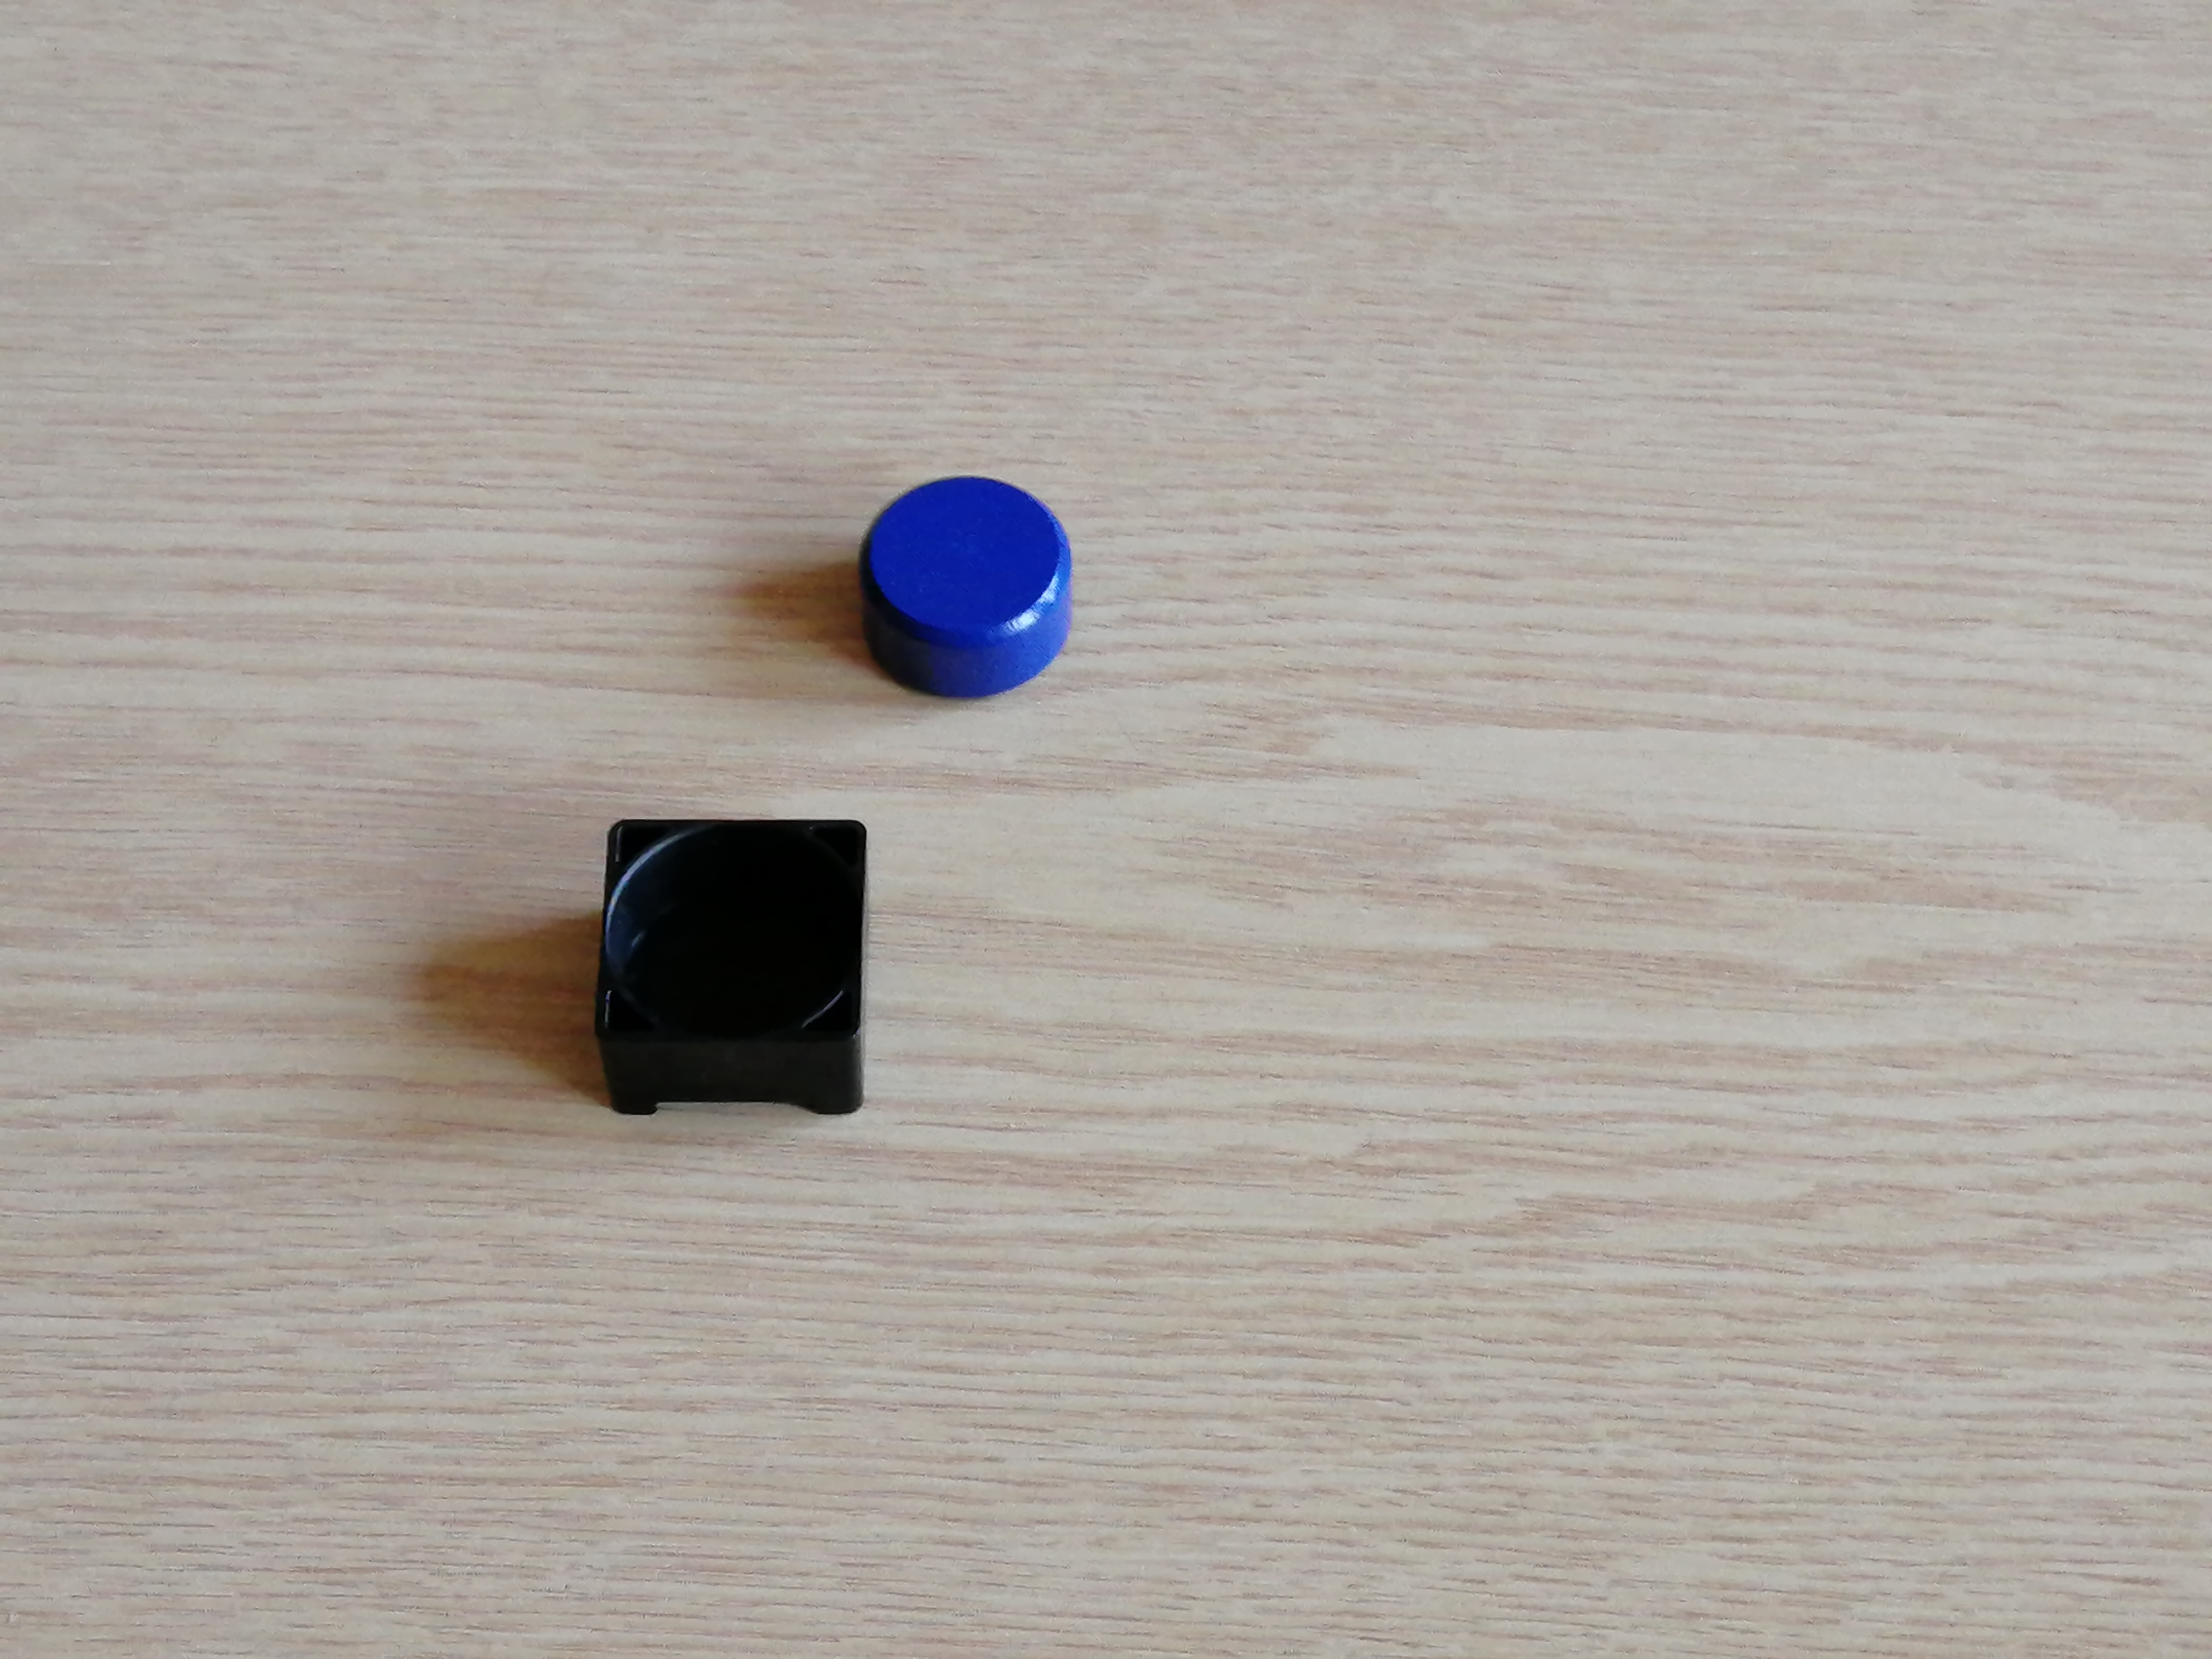Behaelter: (596, 812, 869, 1117)
WerkStueck: (852, 471, 1076, 702)
